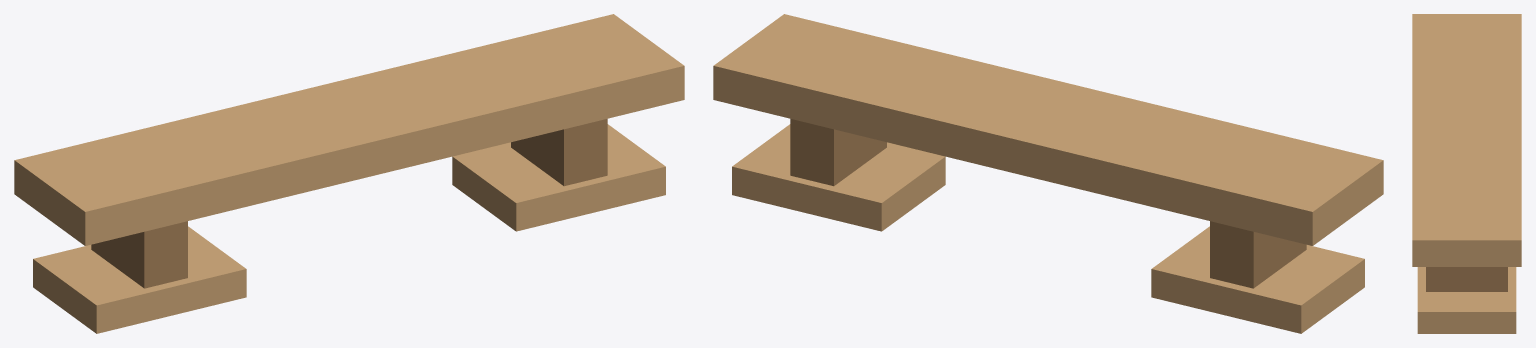
File: long-bench.glb
The picture shows the model from 3 angles, left to right: view 1: azimuth 30°, elevation 25°; view 2: azimuth 150°, elevation 25°; view 3: azimuth 270°, elevation 25°; orthographic projection. The views are drawn at different scales.
Visible parts, largest first — view 1: long-bench; view 2: long-bench; view 3: long-bench.
Boxes of the visible parts, bbox=[...] form: long-bench: bbox=[14, 14, 684, 333]; long-bench: bbox=[713, 14, 1383, 333]; long-bench: bbox=[1412, 14, 1521, 333].
Size of the model in its own units: 2.2 by 0.4499 by 0.4498.
